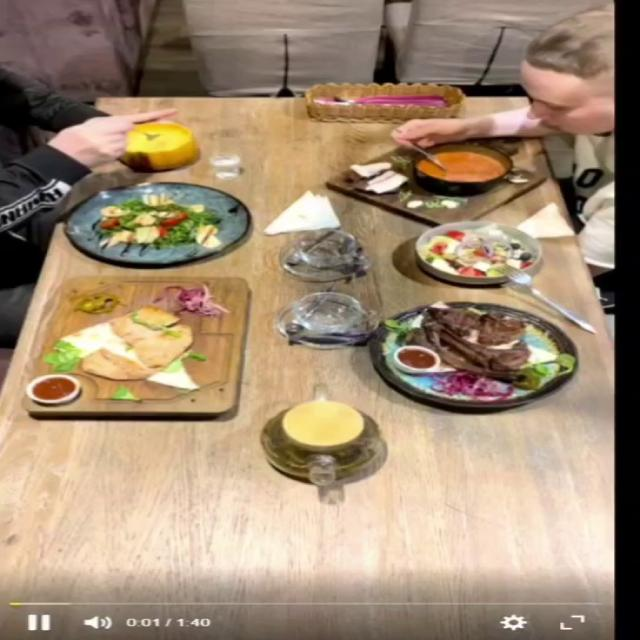alcohol: (183, 135, 255, 179)
meat: (367, 301, 579, 408)
salat: (61, 181, 251, 266), (414, 220, 544, 285)
soup: (322, 140, 547, 226), (121, 122, 199, 170)
tea: (280, 399, 364, 447)
